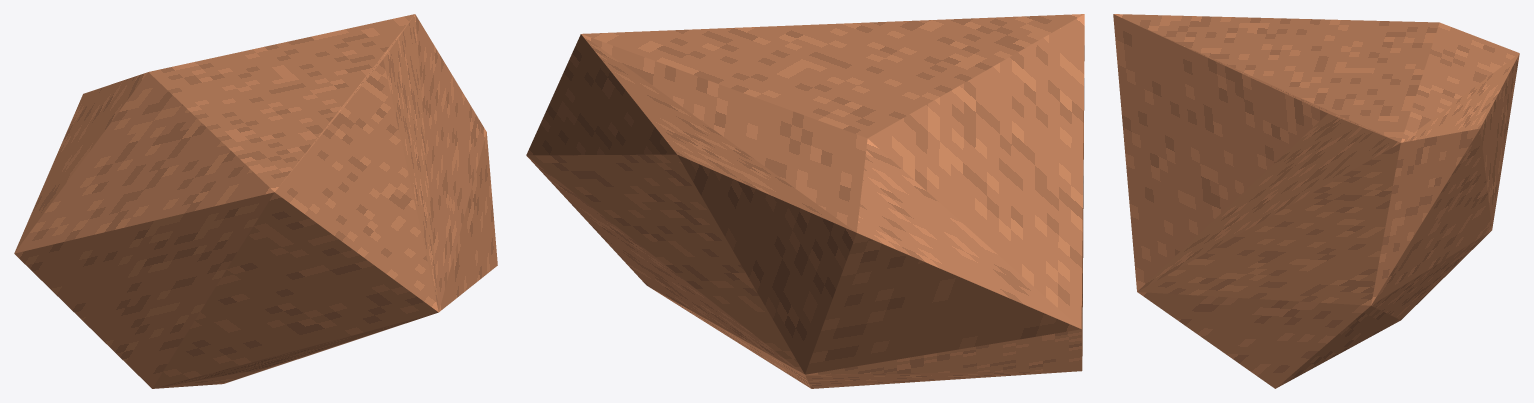
File: scrap_copper.glb
3 renders of one model, left to right at view 1: azimuth 30°, elevation 25°; view 2: azimuth 150°, elevation 25°; view 3: azimuth 270°, elevation 25°, orthographic. The views are drawn at different scales.
Visible parts, largest first — view 1: block_irregular metal; view 2: block_irregular metal; view 3: block_irregular metal.
Part boxes in pixels (x1,y1,x2,y2): block_irregular metal: [14, 14, 497, 388]; block_irregular metal: [526, 14, 1084, 388]; block_irregular metal: [1113, 14, 1519, 388].
Bounding box in the file's own units: 0.0562 × 0.0295 × 0.0397.
Materials: 1 (1 with a texture image).
